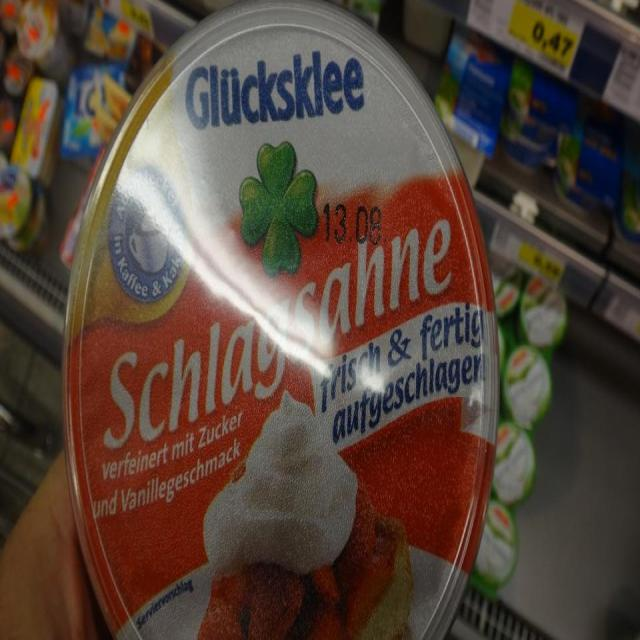cream: (65, 4, 497, 639)
